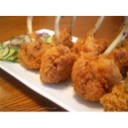chicken_lollipop: (75, 17, 128, 98), (42, 14, 73, 83), (19, 15, 51, 72)
